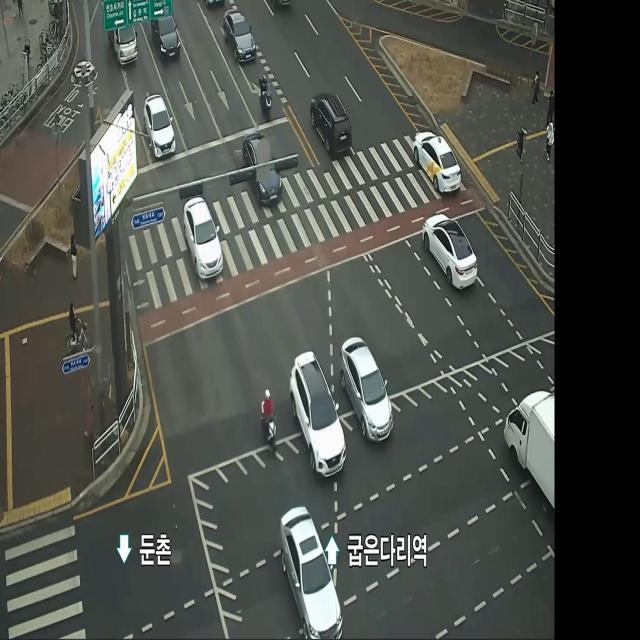bus: (254, 380, 282, 459), (256, 65, 280, 128)
motorcycle: (272, 495, 362, 640), (285, 347, 350, 514), (335, 327, 411, 454), (418, 210, 482, 305), (413, 119, 470, 200), (184, 194, 230, 290), (306, 96, 362, 170), (240, 136, 294, 210), (136, 89, 182, 171), (224, 13, 256, 68), (153, 14, 184, 67)
truck: (500, 354, 551, 512), (111, 26, 148, 74)
